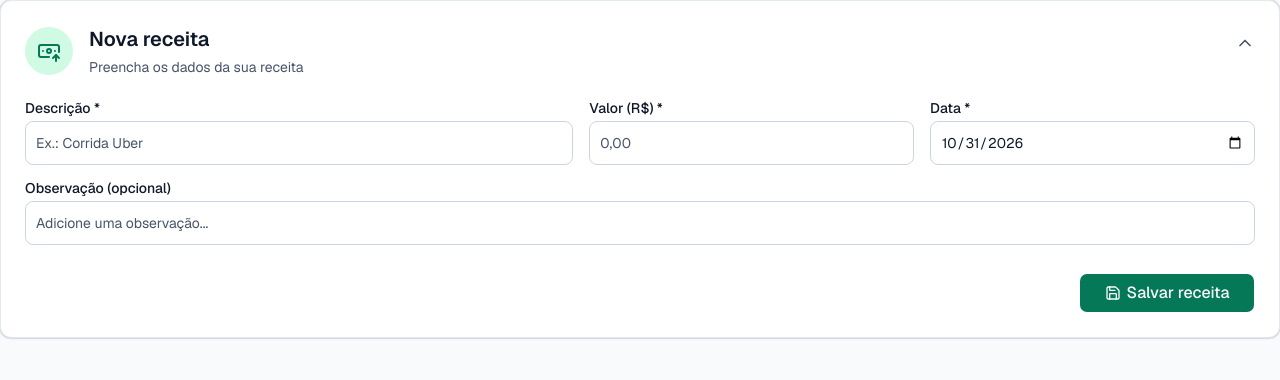
IncomeForm › should validate amount before submitting
Type "Corrida Nova" into the field labelled "Descrição *" at (299, 143), box [25,121,573,165]
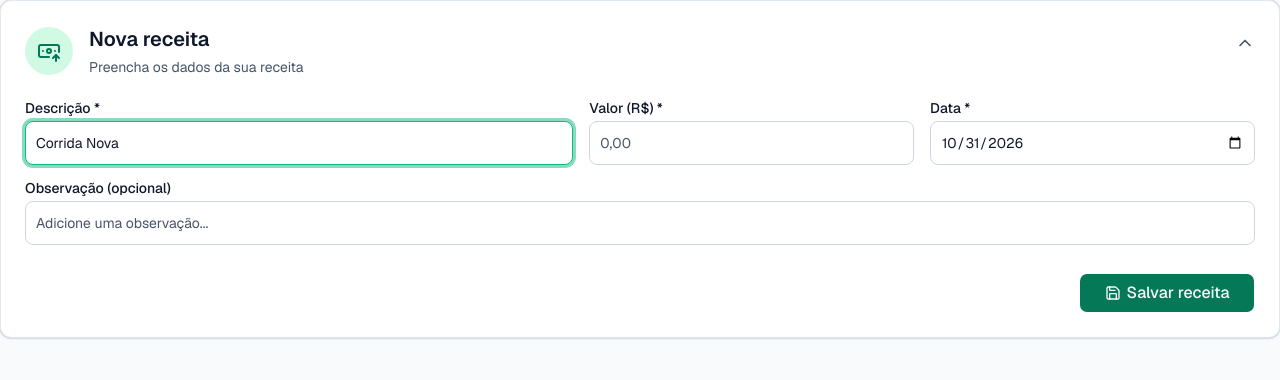
Type "0" into the field labelled "Valor (R$) *" at (752, 143), box [589,121,914,165]
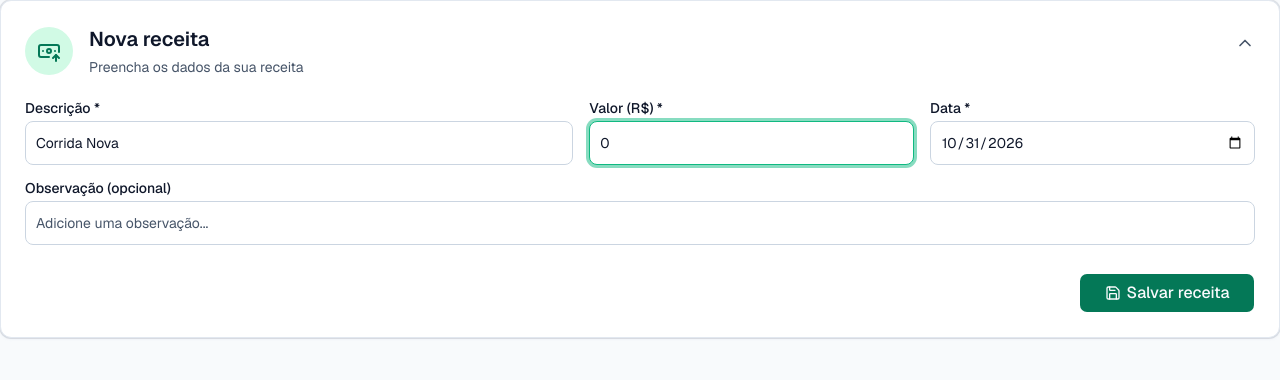
Type "2026-04-10" into the date field labelled "Data *" at (1093, 143), box [930,121,1255,165]
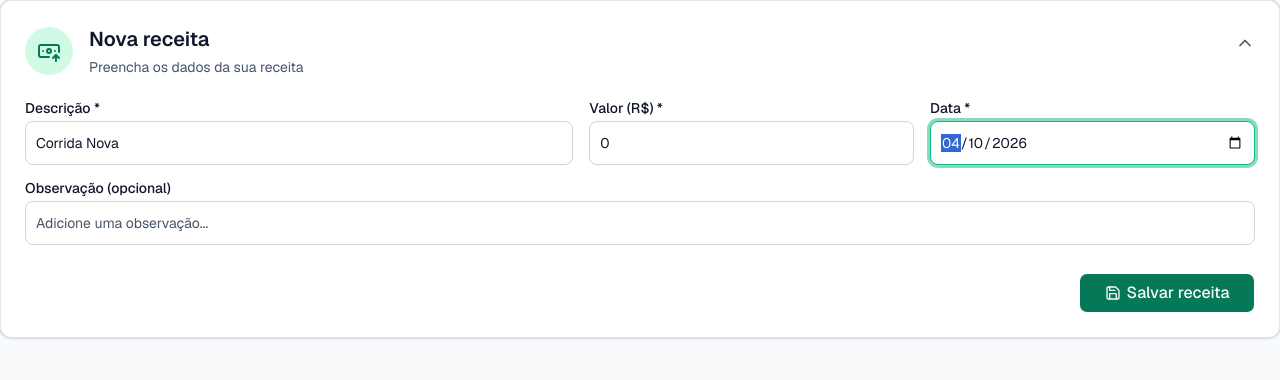
Click the button "Salvar receita" at (1167, 293), box [1079,273,1255,313]
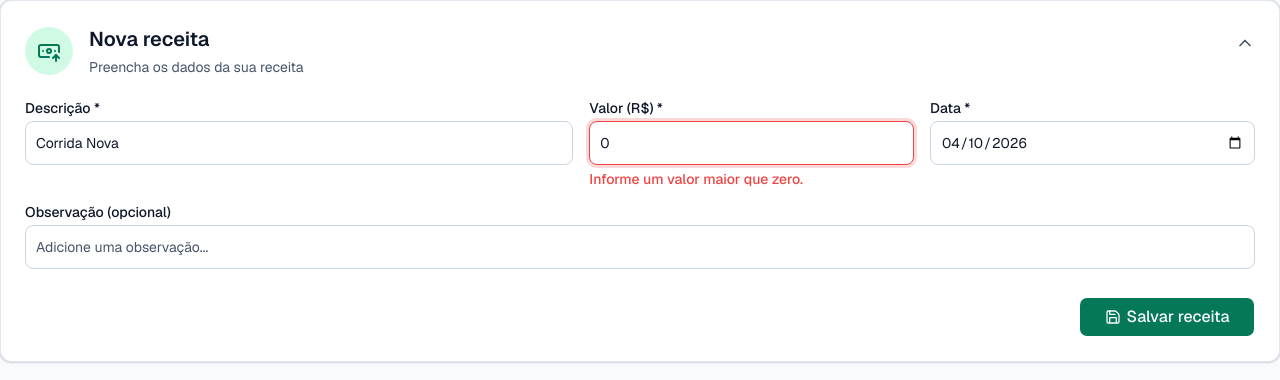
Check: the text "Informe um valor maior que zero." is shown, box [589,170,803,188]
